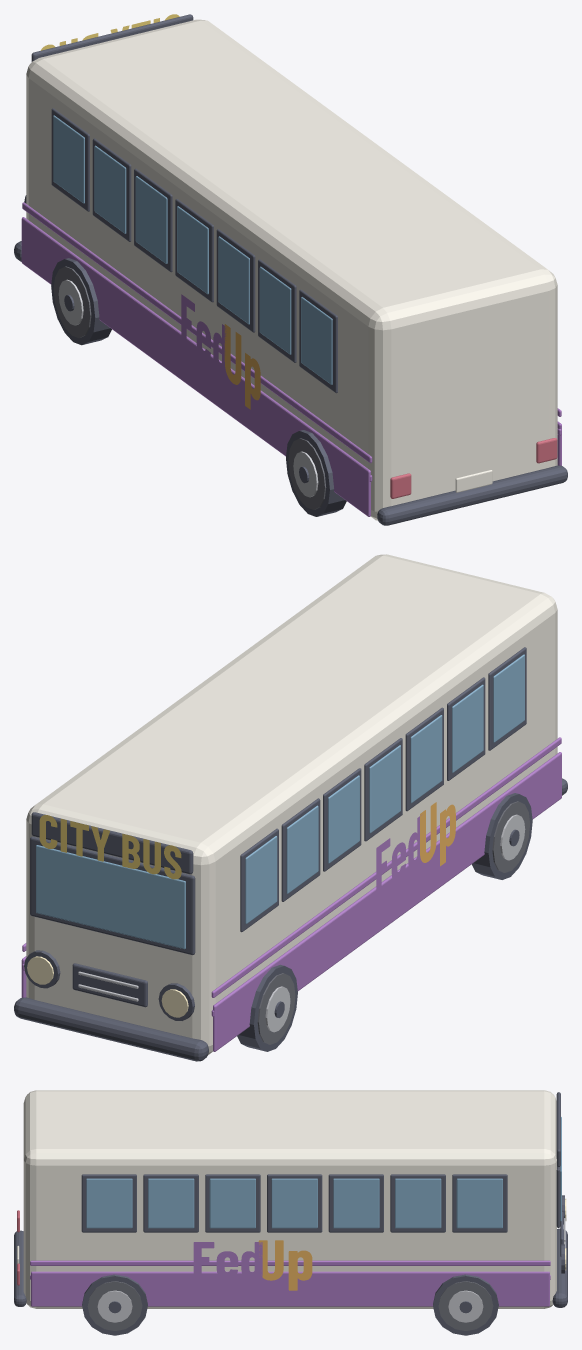
File: city-bus.glb
3 renders of one model, top to bottom at view 1: azimuth 30°, elevation 25°; view 2: azimuth 150°, elevation 25°; view 3: azimuth 270°, elevation 25°, orthographic. The views are drawn at different scales.
Visible parts, largest first — view 1: Bus_body, Purple_lower_body, Rear_bumper, Bus_band, Bus_glass.001, Bus_glass.005, Bus_glass.002, Bus_glass, Bus_glass.003, Bus_glass.004, Bus_glass.006, Rubber_tire.002 (+15 smaller); view 2: Bus_body, Purple_lower_body, Front_bus_glass_inner, Front_bumper, Front_bus_glass, Lettering_CITY BUS, Bus_band, Destination_panel, Bus_glass.004, Bus_glass.001, Bus_glass, Bus_glass.006 (+19 smaller); view 3: Bus_body, Purple_lower_body.001, Bus_band.002, Bus_glass.007, Bus_glass.008, Bus_glass.011, Bus_glass.012, Bus_glass.010, Bus_glass.009, Bus_glass.013, Lettering_Fed.001, Lettering_Up.001 (+16 smaller).
Part boxes in pixels (x1,y1,x2,y2): Bus_body: (26,19,557,520); Purple_lower_body: (21,217,370,516); Rear_bumper: (377,465,567,525); Bus_band: (22,202,372,463); Bus_glass.001: (94,145,126,233); Bus_glass.005: (259,266,291,354); Bus_glass.002: (135,176,167,263); Bus_glass: (53,115,84,203); Bus_glass.003: (177,206,208,294); Bus_glass.004: (218,236,249,324); Bus_glass.006: (301,297,332,384); Rubber_tire.002: (286,430,346,516); Bus_body: (26,554,557,1054); Purple_lower_body: (213,752,561,1051); Front_bus_glass_inner: (36,845,185,949); Front_bumper: (14,997,208,1061); Front_bus_glass: (30,836,195,955); Lettering_CITY BUS: (39,815,181,879); Bus_band: (211,737,561,997); Destination_panel: (31,812,193,874); Bus_glass.004: (410,715,442,803); Bus_glass.001: (286,805,318,893); Bus_glass: (245,836,277,923); Bus_glass.006: (493,654,524,742); Bus_body: (23,1090,556,1308); Purple_lower_body.001: (31,1271,549,1306); Bus_band.002: (30,1260,550,1265); Bus_glass.007: (456,1178,502,1228); Bus_glass.008: (395,1178,441,1228); Bus_glass.011: (209,1178,255,1228); Bus_glass.012: (148,1178,194,1228); Bus_glass.010: (271,1178,317,1228); Bus_glass.009: (333,1178,379,1228); Bus_glass.013: (86,1178,132,1228); Lettering_Fed.001: (193,1242,262,1278); Lettering_Up.001: (258,1240,312,1290).
Size of the model in its own units: 2.61 by 2.83 by 7.89.
